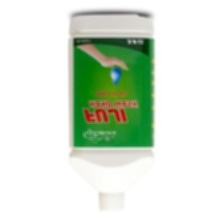cleaning_solution: (65, 10, 156, 214)
